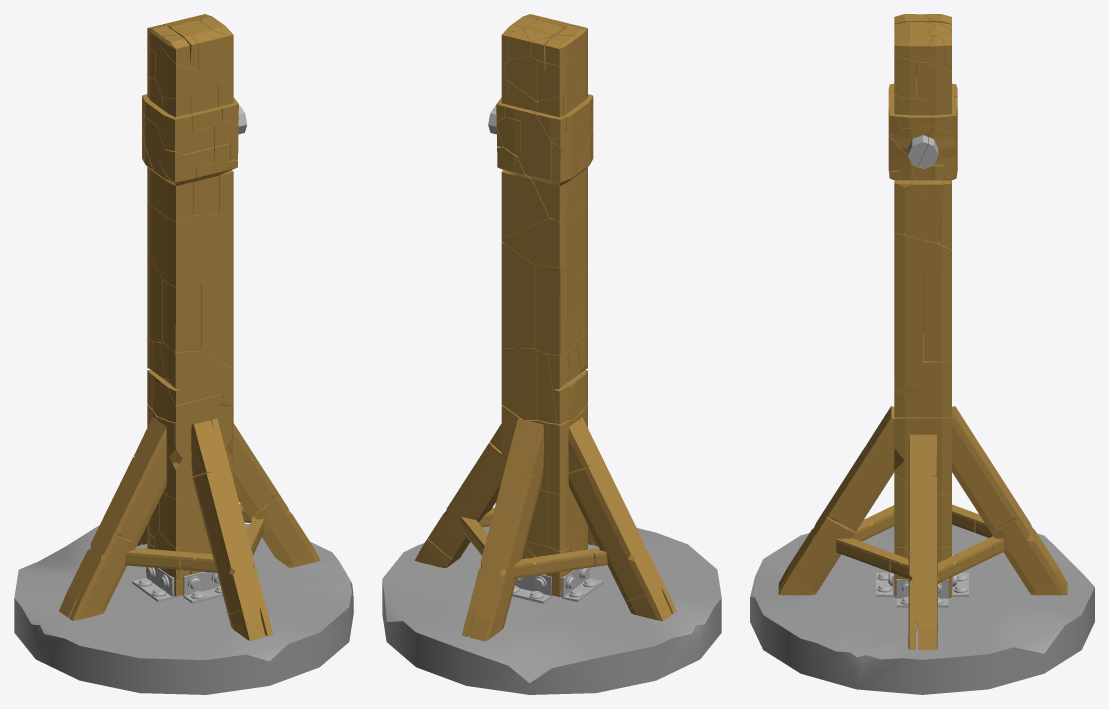
3 renders of one model, left to right at view 1: azimuth 30°, elevation 25°; view 2: azimuth 150°, elevation 25°; view 3: azimuth 270°, elevation 25°, orthographic.
Visible parts, largest first — view 1: Cube.015, Cube.016, Cube.058_cell.056, Cube.058_cell.079, Cube.058_cell.064, Cube.058_cell.059, Cube.017, Cube.058_cell.001, Cube.058_cell.046, Cube.058_cell.030, Cube.058_cell.075, Cube.058_cell.054 (+14 smaller); view 2: Cube.015, Cube.016, Cube.058_cell.056, Cube.058_cell.033, Cube.058_cell.065, Cube.058_cell.008, Cube.058_cell.007, Cube.017, Cube.058_cell.045, Cube.058_cell.051, Cube.058_cell.016, Cube.058_cell.078 (+20 smaller); view 3: Cube.015, Cube.016, Cube.058_cell.065, Cube.058_cell.079, Cube.058_cell.033, Cube.058_cell.003, Cube.058_cell.056, Cube.017, Cube.058_cell.035, Cube.058_cell.011, Cube.058_cell.006, Cube.058_cell.055 (+9 smaller).
Part boxes in pixels (x1=…): Cube.015: x1=14, y1=523, x2=353, y2=694; Cube.016: x1=59, y1=417, x2=320, y2=640; Cube.058_cell.056: x1=147, y1=201, x2=233, y2=287; Cube.058_cell.079: x1=201, y1=261, x2=233, y2=367; Cube.058_cell.064: x1=160, y1=342, x2=228, y2=405; Cube.058_cell.059: x1=163, y1=280, x2=200, y2=352; Cube.017: x1=132, y1=567, x2=222, y2=603; Cube.058_cell.001: x1=159, y1=492, x2=204, y2=548; Cube.058_cell.046: x1=148, y1=161, x2=194, y2=221; Cube.058_cell.030: x1=174, y1=405, x2=231, y2=470; Cube.058_cell.075: x1=157, y1=94, x2=192, y2=151; Cube.058_cell.054: x1=155, y1=46, x2=204, y2=98; Cube.015: x1=382, y1=526, x2=721, y2=694; Cube.016: x1=415, y1=417, x2=676, y2=641; Cube.058_cell.056: x1=501, y1=201, x2=587, y2=274; Cube.058_cell.033: x1=501, y1=242, x2=534, y2=348; Cube.058_cell.065: x1=501, y1=348, x2=537, y2=419; Cube.058_cell.008: x1=501, y1=159, x2=549, y2=237; Cube.058_cell.007: x1=534, y1=265, x2=560, y2=355; Cube.017: x1=512, y1=567, x2=603, y2=603; Cube.058_cell.045: x1=517, y1=138, x2=553, y2=218; Cube.058_cell.051: x1=560, y1=269, x2=578, y2=354; Cube.058_cell.016: x1=549, y1=489, x2=575, y2=551; Cube.058_cell.078: x1=548, y1=420, x2=572, y2=494; Cube.015: x1=750, y1=519, x2=1094, y2=694; Cube.016: x1=778, y1=406, x2=1067, y2=649; Cube.058_cell.065: x1=894, y1=339, x2=951, y2=417; Cube.058_cell.079: x1=894, y1=273, x2=922, y2=379; Cube.058_cell.033: x1=923, y1=253, x2=951, y2=361; Cube.058_cell.003: x1=894, y1=418, x2=951, y2=494; Cube.058_cell.056: x1=894, y1=232, x2=951, y2=273; Cube.017: x1=876, y1=554, x2=968, y2=607; Cube.058_cell.035: x1=904, y1=180, x2=938, y2=243; Cube.058_cell.011: x1=916, y1=62, x2=951, y2=103; Cube.058_cell.006: x1=918, y1=125, x2=956, y2=168; Cube.058_cell.055: x1=894, y1=474, x2=908, y2=547.
Size of the model in its own units: 220 by 420 by 220.
